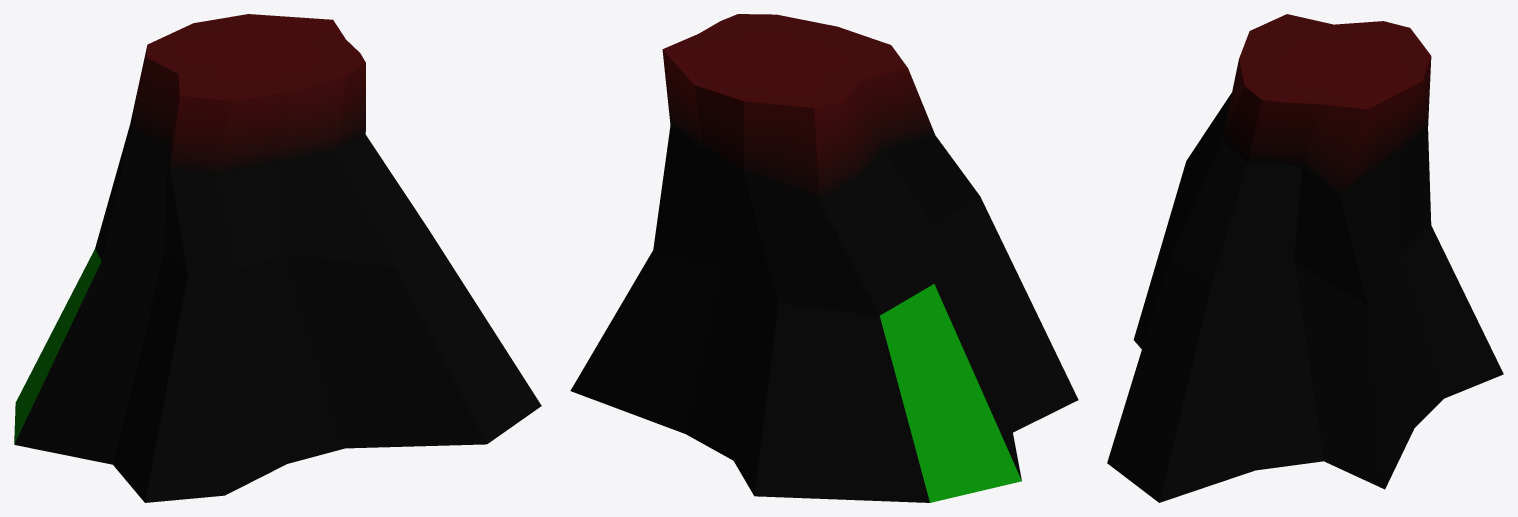
The model's file is SM_Fruit_Tree_01_stump.glb.
3 views of the same model, side by side, from view 1: azimuth 30°, elevation 25°; view 2: azimuth 150°, elevation 25°; view 3: azimuth 270°, elevation 25° (orthographic). The views are drawn at different scales.
Parts seen in each view (by area): view 1: SM_Fruit_Tree_01_stump; view 2: SM_Fruit_Tree_01_stump; view 3: SM_Fruit_Tree_01_stump.
Part boxes in pixels (<box>): SM_Fruit_Tree_01_stump: <box>14,14,541,502</box>; SM_Fruit_Tree_01_stump: <box>570,14,1078,502</box>; SM_Fruit_Tree_01_stump: <box>1107,14,1503,502</box>.
Size of the model in its own units: 1.24 by 0.9161 by 0.9636.
1 material, 1 textured.
